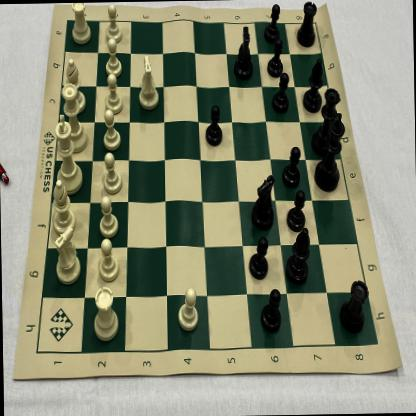bishop: (284, 231, 310, 284), (52, 178, 76, 235), (64, 57, 86, 113), (302, 57, 324, 112)
king: (313, 112, 347, 192), (53, 113, 82, 194)
knight: (52, 221, 82, 286), (136, 52, 162, 115), (248, 172, 276, 230), (232, 24, 253, 80)
pawn: (94, 195, 119, 242), (94, 238, 119, 283), (247, 234, 270, 280), (258, 288, 282, 332), (98, 110, 124, 150), (177, 288, 200, 332), (99, 152, 123, 194), (286, 188, 307, 232), (102, 38, 125, 76), (281, 144, 301, 186), (101, 74, 123, 112), (204, 103, 222, 147), (271, 72, 290, 112), (263, 1, 281, 43), (105, 3, 122, 44), (266, 39, 284, 77)
queen: (310, 86, 342, 156), (60, 82, 87, 152)
rook: (338, 276, 369, 334), (92, 284, 118, 342), (295, 0, 319, 47), (70, 2, 92, 45)
